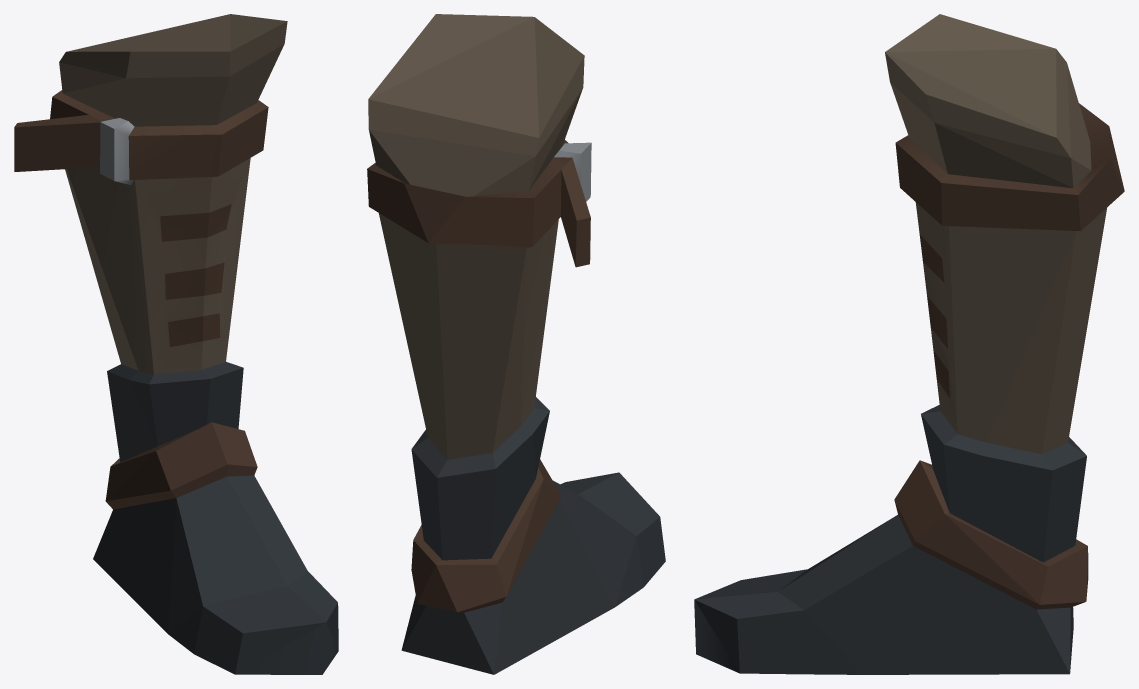
File: Chr_LegRight_Female_11_Static.fbx
3 renders of one model, left to right at view 1: azimuth 30°, elevation 25°; view 2: azimuth 150°, elevation 25°; view 3: azimuth 270°, elevation 25°, orthographic. The views are drawn at different scales.
Parts seen in each view (by area): view 1: Chr_LegRight_Female_11_Static; view 2: Chr_LegRight_Female_11_Static; view 3: Chr_LegRight_Female_11_Static.
Boxes of the visible parts, left/top/right/bottom form: Chr_LegRight_Female_11_Static: left=14, top=14, right=338, bottom=674; Chr_LegRight_Female_11_Static: left=367, top=14, right=665, bottom=674; Chr_LegRight_Female_11_Static: left=694, top=14, right=1124, bottom=674.
Bounding box in the file's own units: 0.1631 × 0.4043 × 0.263.
